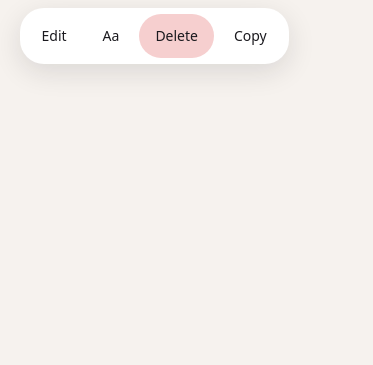
Test case: SelectionMenu actions per selection › Aa opens the text options for the selected box: a font or style tap restyles only it, in one undo step
The image size is (373, 365).
What coordinates should you click on to do the following:
click the button with aria-label "Text options"
I would click on:
 (111, 36)
Its box is left=87, top=14, right=135, bottom=58.
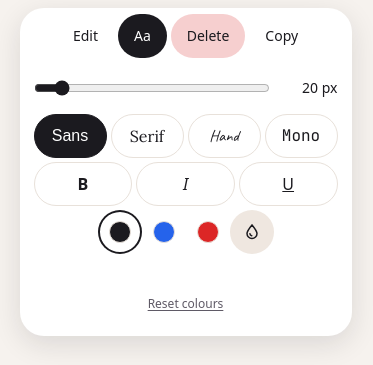
What coordinates should you click on to do the following:
click the radio button labelled "Serif"
I would click on:
 (147, 136)
Its box is left=110, top=114, right=184, bottom=158.
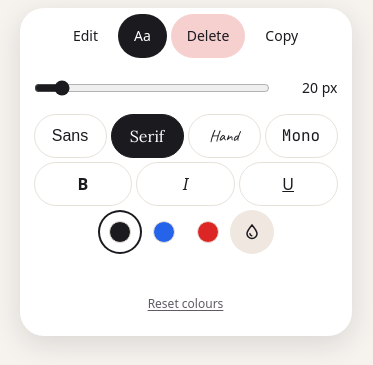
What coordinates should you click on to do the following:
click the button named "Bold"
I would click on:
 (83, 184)
Its box is left=34, top=162, right=132, bottom=206.
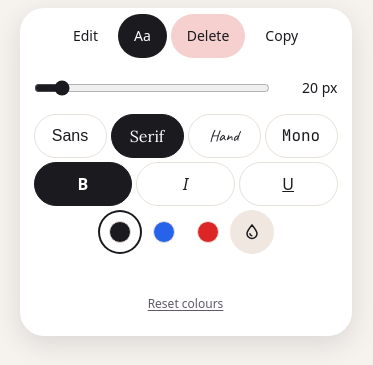
Expected: the button named "Bold" is pressed, left=34, top=162, right=132, bottom=206
Expected: the radio button labelled "Serif" is checked, left=110, top=114, right=184, bottom=158
